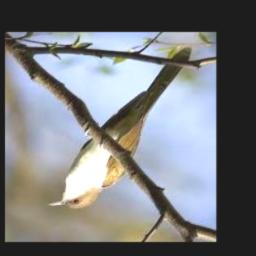Cuckoo: (47, 48, 192, 208)
